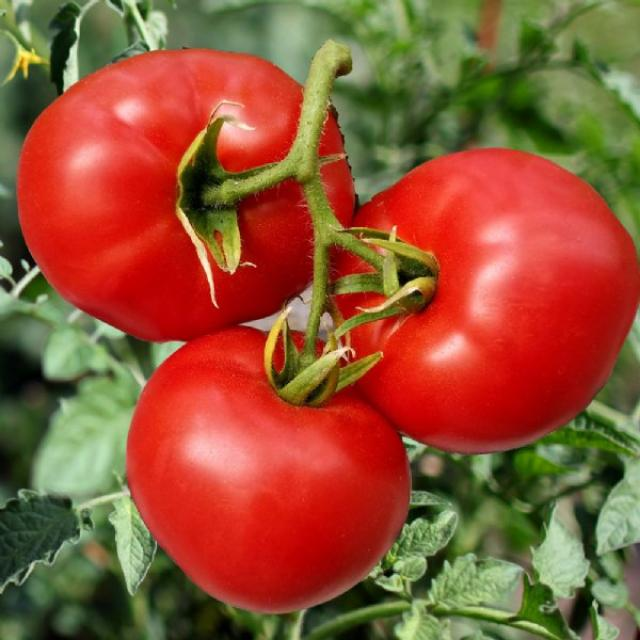tomato: (321, 138, 636, 454), (16, 50, 357, 332), (114, 316, 413, 603)
